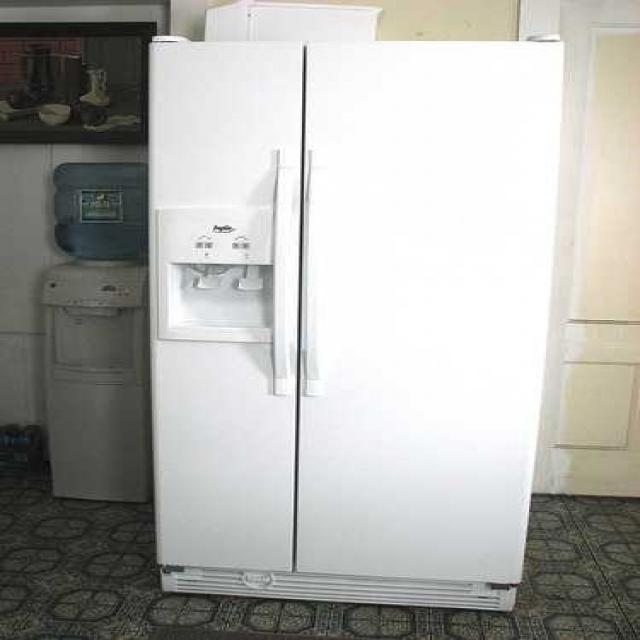refrigerator: (148, 33, 568, 611)
